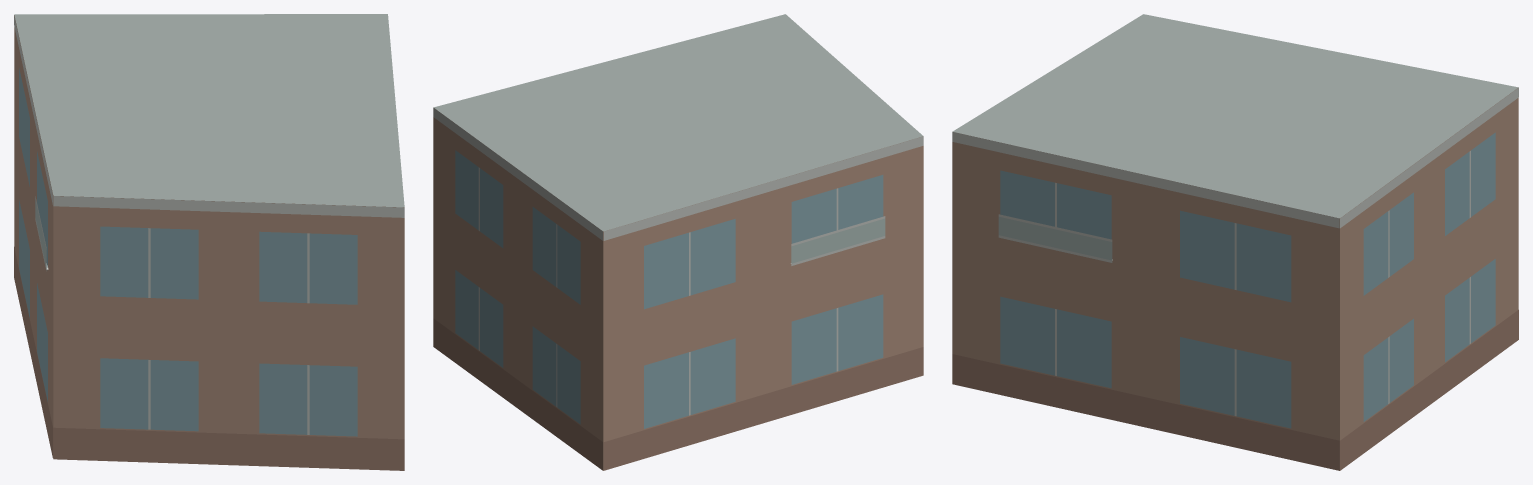
File: survey-upis-32764393.glb
3 renders of one model, left to right at view 1: azimuth 30°, elevation 25°; view 2: azimuth 150°, elevation 25°; view 3: azimuth 270°, elevation 25°, orthographic. The views are drawn at different scales.
Visible parts, largest first — view 1: survey-upis-32764393.tmp; view 2: survey-upis-32764393.tmp; view 3: survey-upis-32764393.tmp.
Boxes of the visible parts, bbox=[...] form: survey-upis-32764393.tmp: bbox=[14, 14, 404, 470]; survey-upis-32764393.tmp: bbox=[433, 14, 923, 470]; survey-upis-32764393.tmp: bbox=[952, 14, 1518, 470].
Size of the model in its own units: 10.6 by 6.1 by 12.41.
